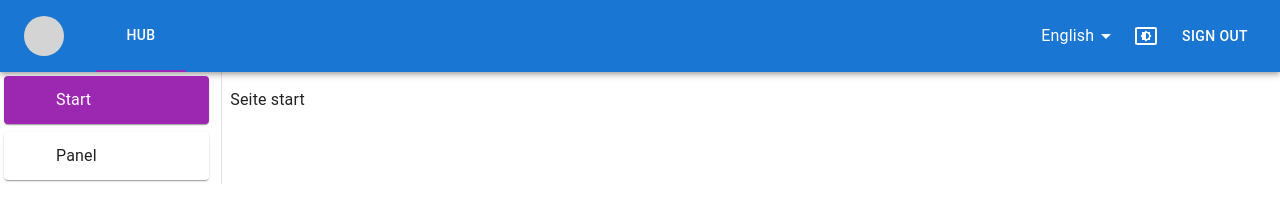
Scenario: createAppRouter: sidebars › entries › goes to another entry when it is clicked and keeps the tab
Expected: the text "Seite start" is shown, top-left (230, 90), bottom-right (305, 109)
Click the link "Panel".
click(76, 156)  # box top-left (56, 146), bottom-right (97, 165)
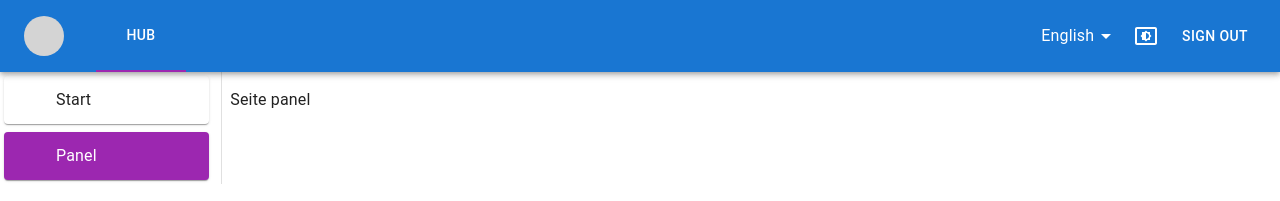
Expected: the text "Seite panel" is shown, top-left (230, 90), bottom-right (310, 109)
